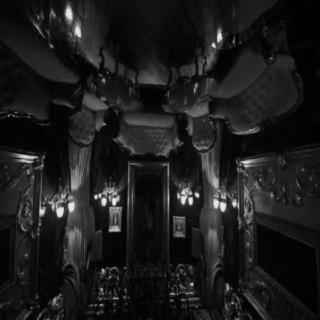other: (175, 183, 203, 210)
